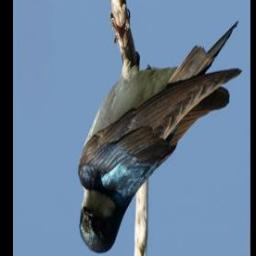Swallow: (77, 6, 243, 254)
